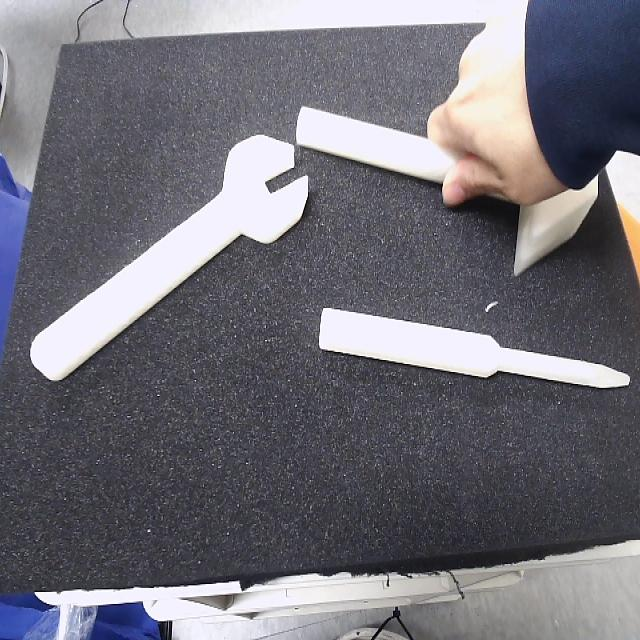Driver: (317, 308, 632, 392)
Spanner: (29, 135, 310, 383)
